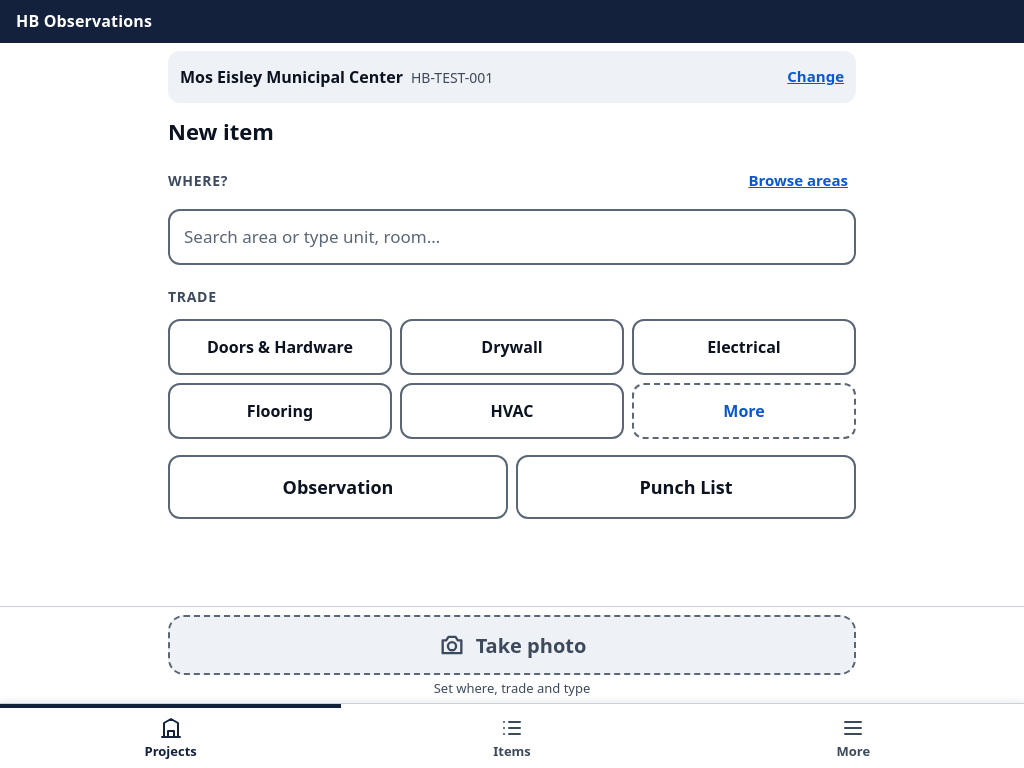
rapid capture › lists every trade with its company under More
Check: the dropdown labelled "Where?" is shown, box [168,209,856,265]
Step 1. Click the button with aria-label "More trades (7 total)" → coordinates (744, 411), box [632,383,856,439]
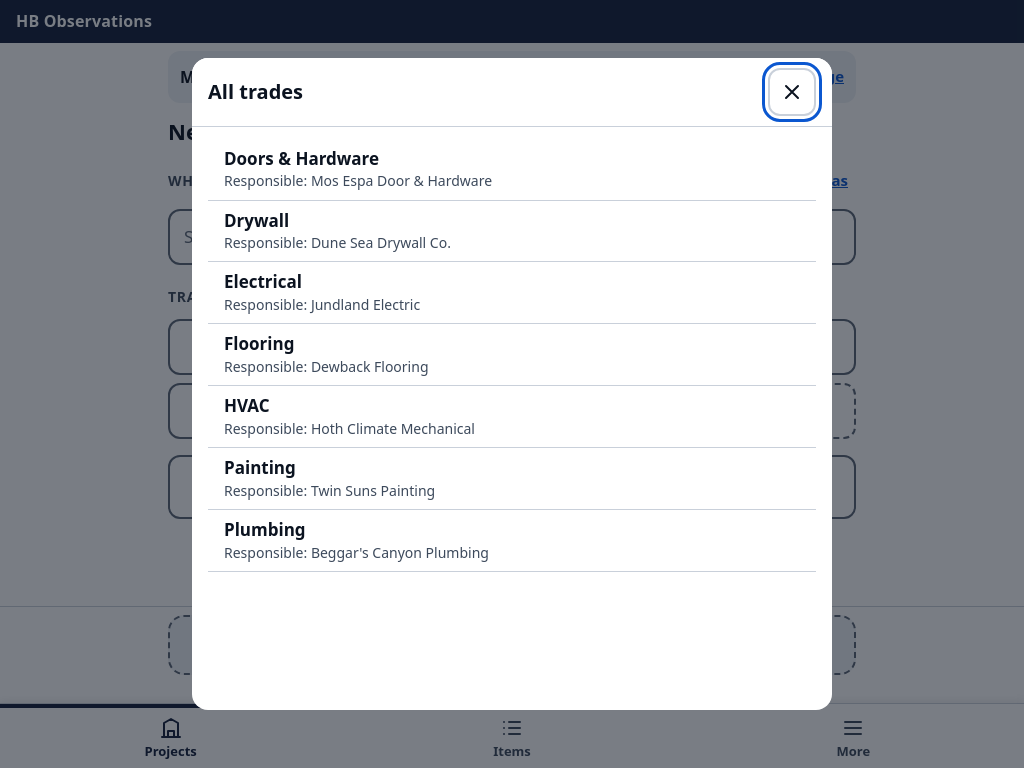
Step 2. Click the button "Plumbing Responsible: Beggar's Canyon Plumbing" → coordinates (265, 530), box [208,510,816,572]
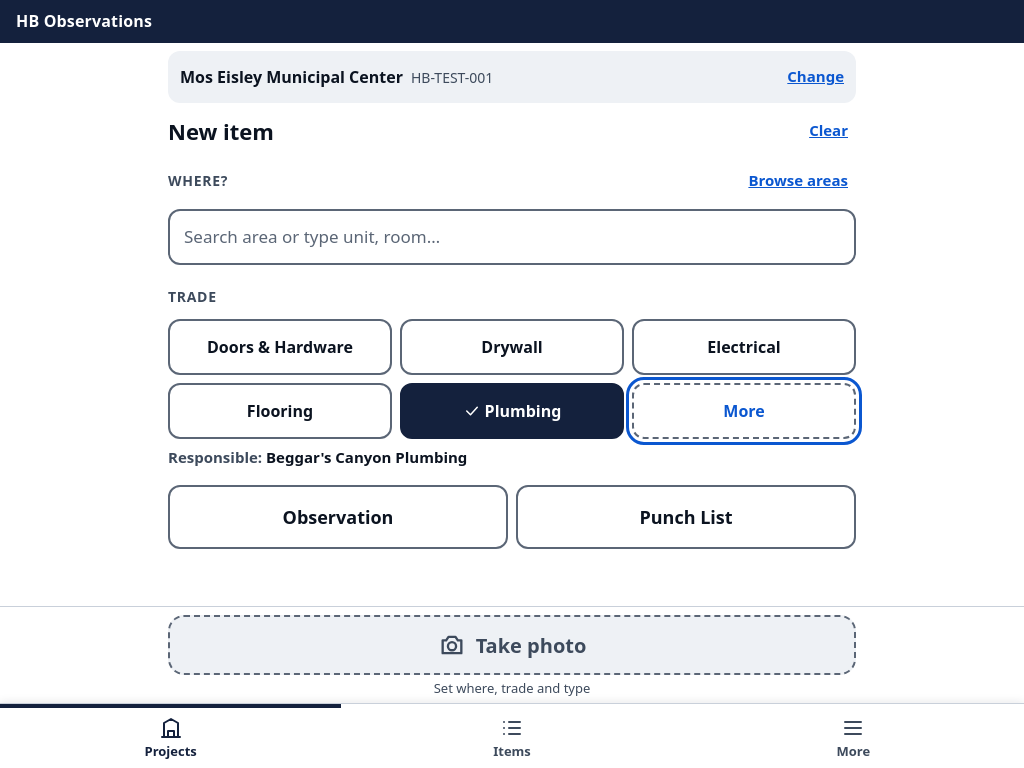
Check: the text "Beggar's Canyon Plumbing" is shown, box [266,447,467,467]
Check: the dialog is gone
